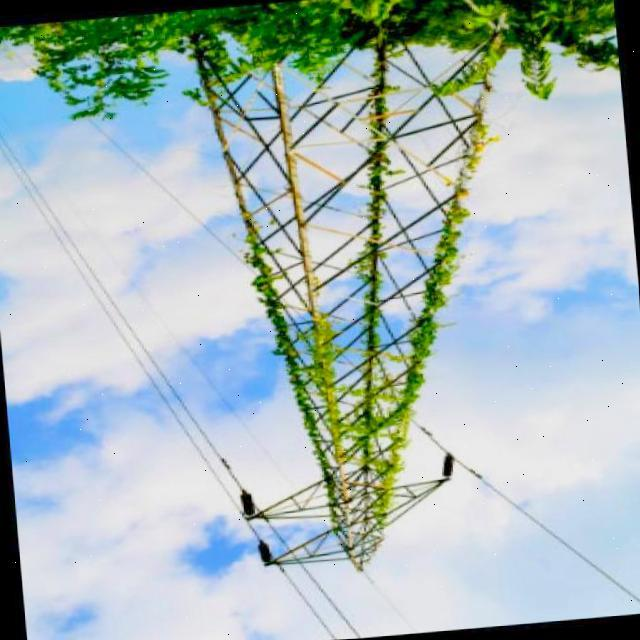critical vegetation: (222, 76, 523, 574)
